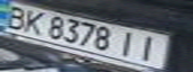3: (60, 17, 81, 45)
7: (78, 20, 96, 48)
8: (93, 22, 118, 52), (42, 14, 66, 40)
B: (0, 3, 33, 30)
I: (133, 33, 169, 62), (112, 29, 145, 57)
K: (18, 7, 48, 35)
